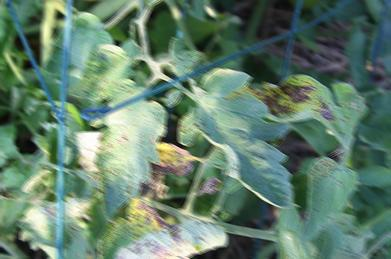Tomato Septoria leaf spot: (172, 70, 305, 211), (91, 81, 171, 224), (256, 66, 371, 146), (21, 178, 92, 259), (301, 155, 357, 250), (114, 214, 229, 259), (97, 191, 168, 259), (69, 43, 140, 107), (163, 33, 204, 80)
